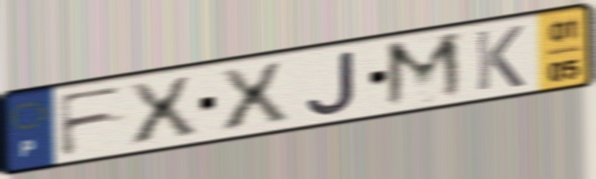F: (54, 82, 130, 160)
J: (303, 48, 359, 118)
K: (471, 23, 528, 94)
M: (381, 29, 469, 112)
X: (123, 73, 203, 148), (214, 59, 294, 134)
